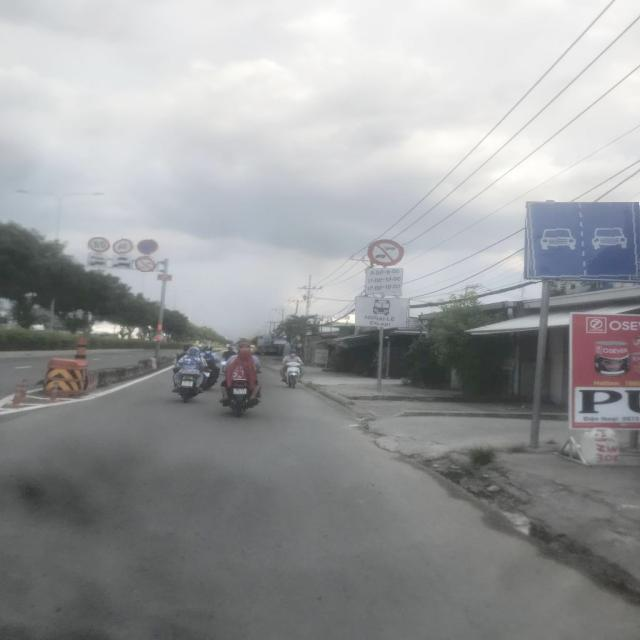107-cam-oto-khach-va-oto-tai: (368, 239, 406, 266)
127-toc-do-toi-da-60: (113, 238, 133, 254)
127-toc-do-toi-da-80: (87, 237, 111, 254)
